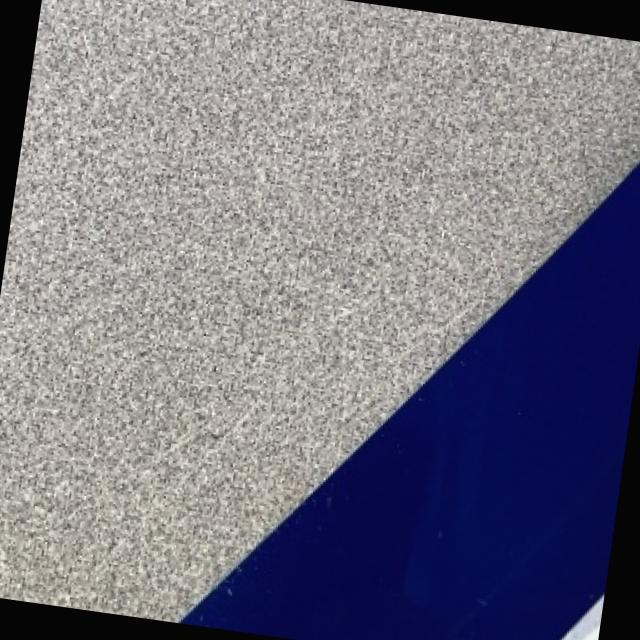healthy: (0, 0, 640, 621)
